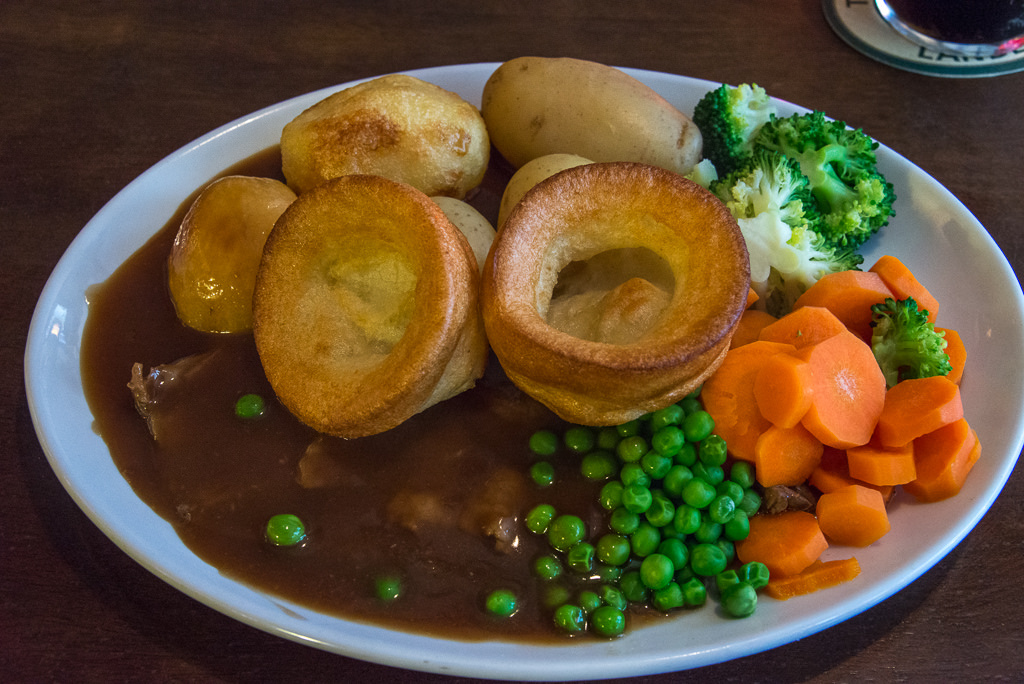boiled peas: (551, 417, 760, 618)
boiled potatoes: (488, 48, 721, 185), (278, 74, 506, 204)
